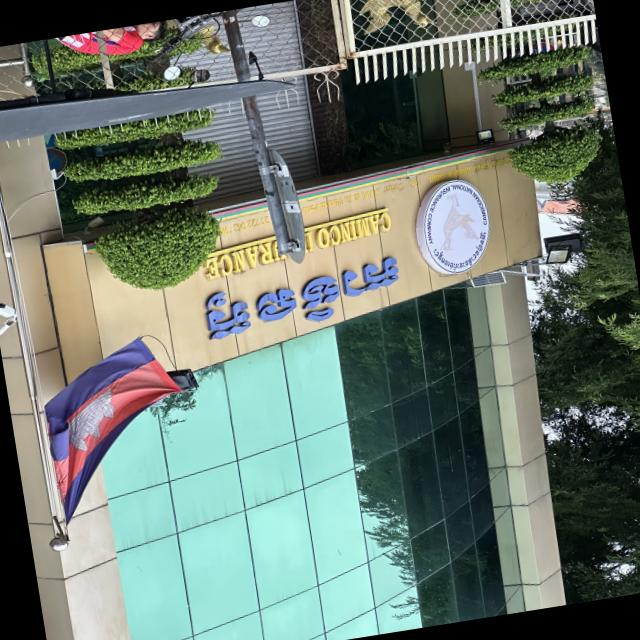Yolov11kh: (195, 244, 422, 358)
